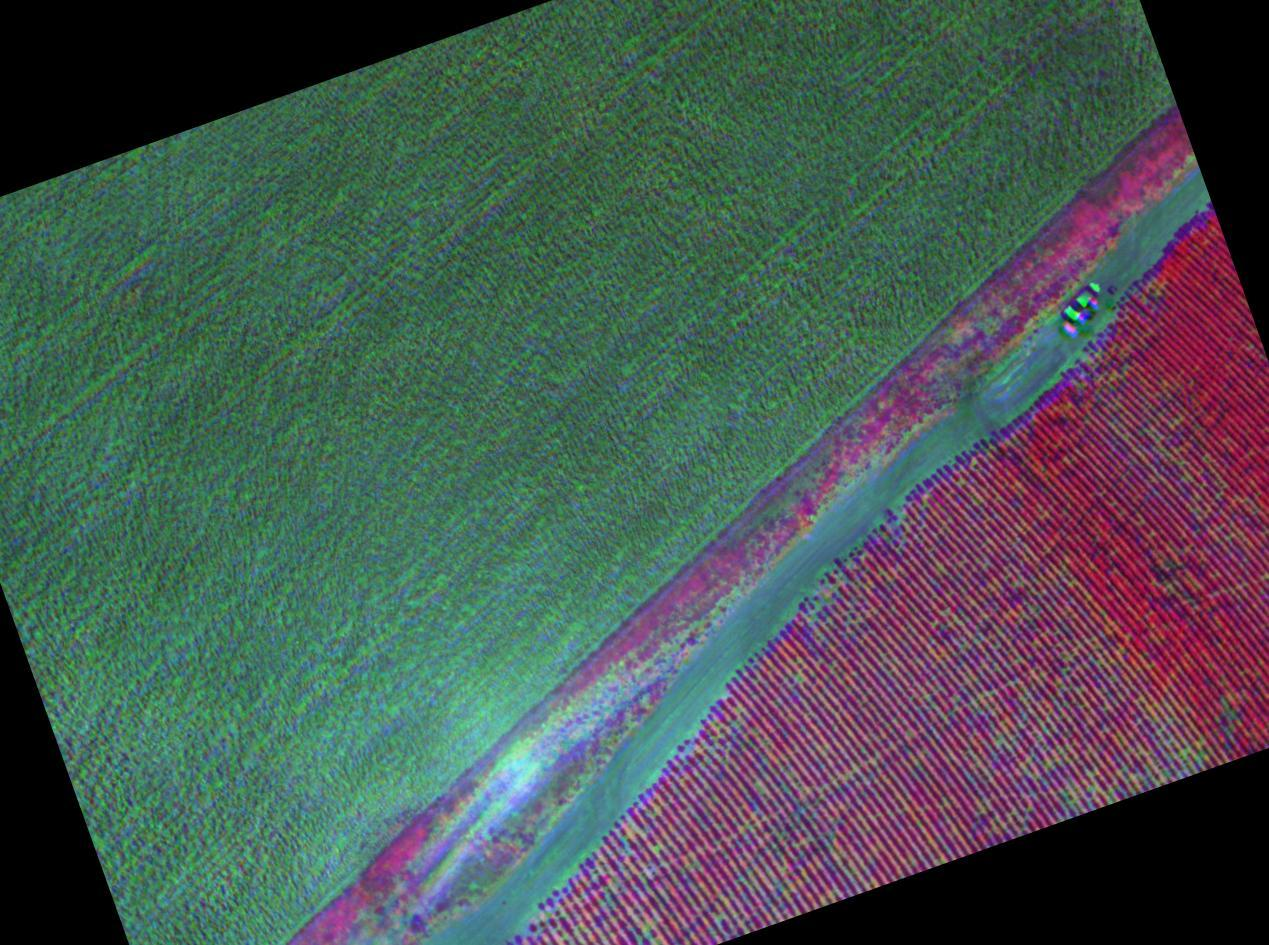dc: (743, 758, 802, 801), (636, 833, 678, 872), (1073, 634, 1118, 662), (811, 586, 849, 619), (630, 915, 671, 945), (1168, 744, 1211, 772)
